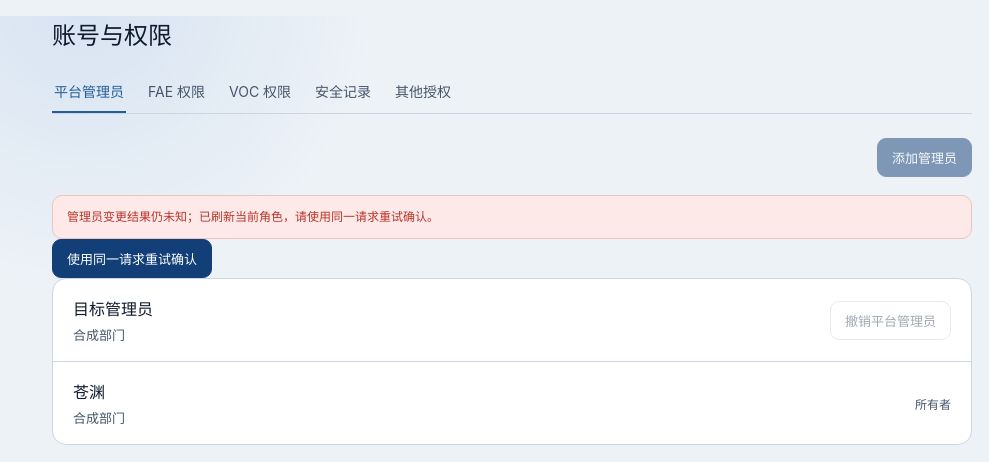
IdentityManagementPage › keeps the storage-integrity warning when an uncertain replay cannot be retained
Click the button "使用同一请求重试确认" at (132, 259), box [52,239,212,278]
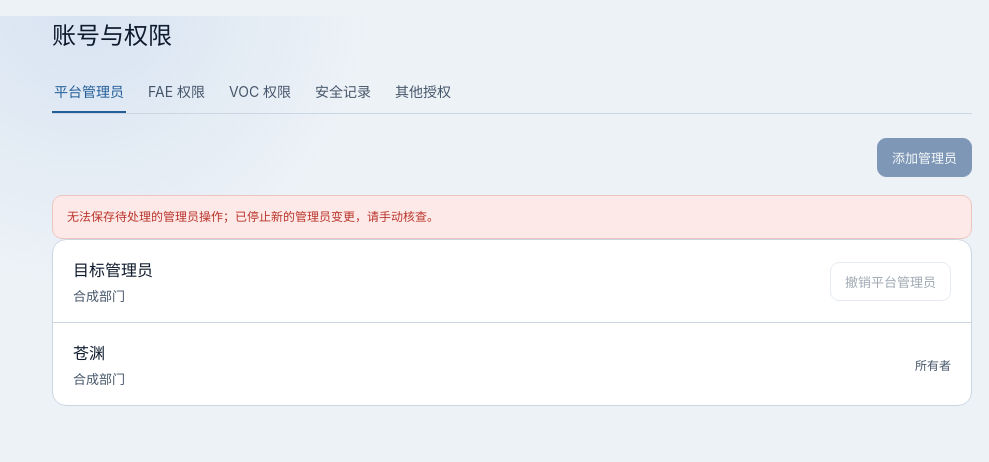
Expected: the text "无法保存待处理的管理员操作；已停止新的管理员变更，请手动核查。" is shown, [52,195,972,239]
Expected: the text "使用同一请求重试确认" is gone
